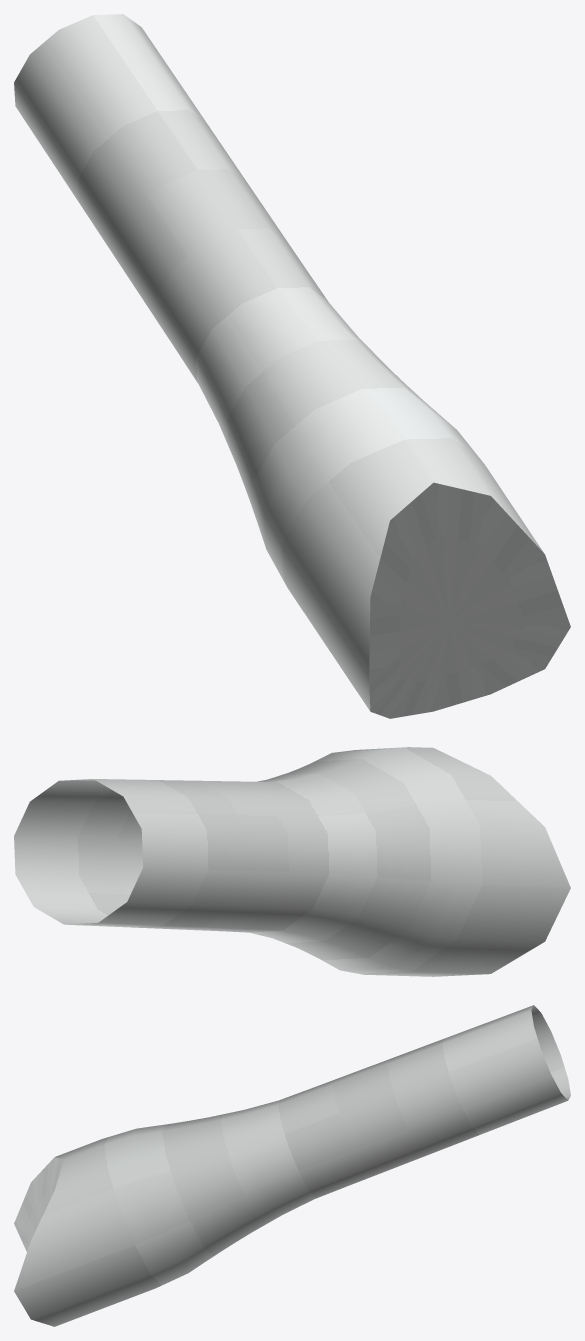
Rendered from luminairearm_caltrans10ftstraight_c0_pedestal.obj.
3 views of the same model, one above another, from view 1: azimuth 30°, elevation 25°; view 2: azimuth 150°, elevation 25°; view 3: azimuth 270°, elevation 25° (orthographic). The views are drawn at different scales.
Visible parts, largest first — view 1: luminairearm_caltrans10ftstraight_c0_pedestal; view 2: luminairearm_caltrans10ftstraight_c0_pedestal; view 3: luminairearm_caltrans10ftstraight_c0_pedestal.
Boxes of the visible parts, x1=… form: luminairearm_caltrans10ftstraight_c0_pedestal: x1=14, y1=14, x2=570, y2=718; luminairearm_caltrans10ftstraight_c0_pedestal: x1=14, y1=747, x2=570, y2=976; luminairearm_caltrans10ftstraight_c0_pedestal: x1=14, y1=1005, x2=570, y2=1326.
Size of the model in its own units: 0.3375 by 0.7149 by 1.18.
